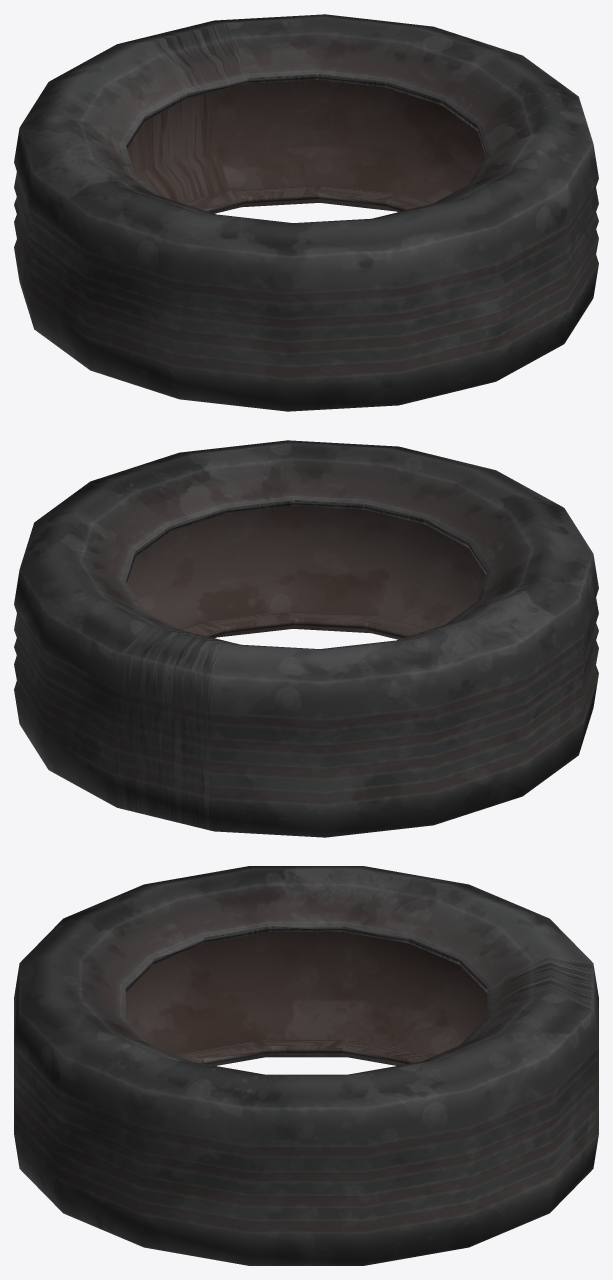
Rendered from Ban.fbx.
The picture shows the model from 3 angles, top to bottom: view 1: azimuth 30°, elevation 25°; view 2: azimuth 150°, elevation 25°; view 3: azimuth 270°, elevation 25°; orthographic projection.
Visible parts, largest first — view 1: car_tire_02.001; view 2: car_tire_02.001; view 3: car_tire_02.001.
Part boxes in pixels (x1,y1,x2,y2): car_tire_02.001: (14, 14, 598, 411); car_tire_02.001: (14, 440, 598, 837); car_tire_02.001: (14, 866, 598, 1265).
Size of the model in its own units: 67.36 by 67.36 by 23.62.
1 material, 1 textured.
